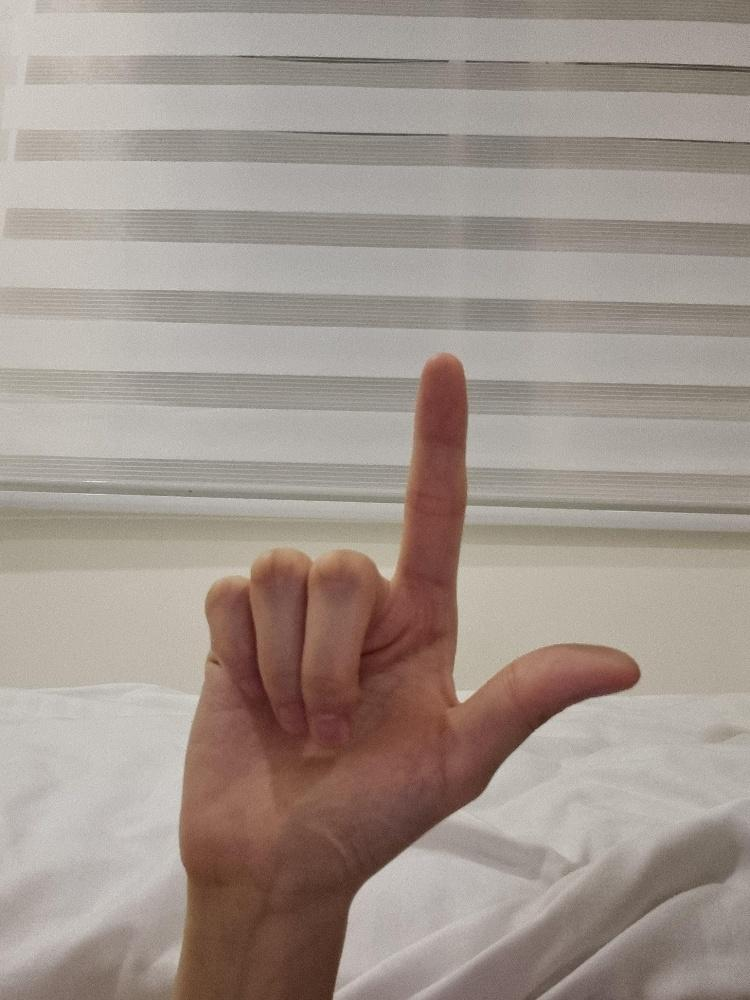l: (172, 347, 643, 880)
